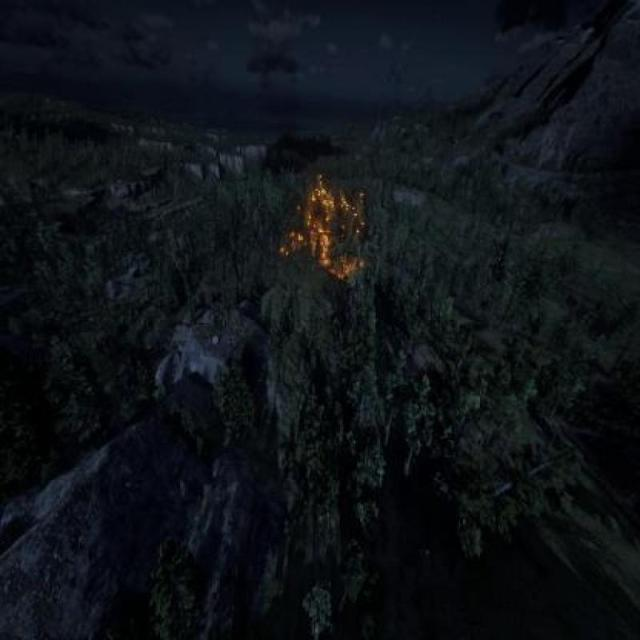Fire: (282, 180, 381, 268)
